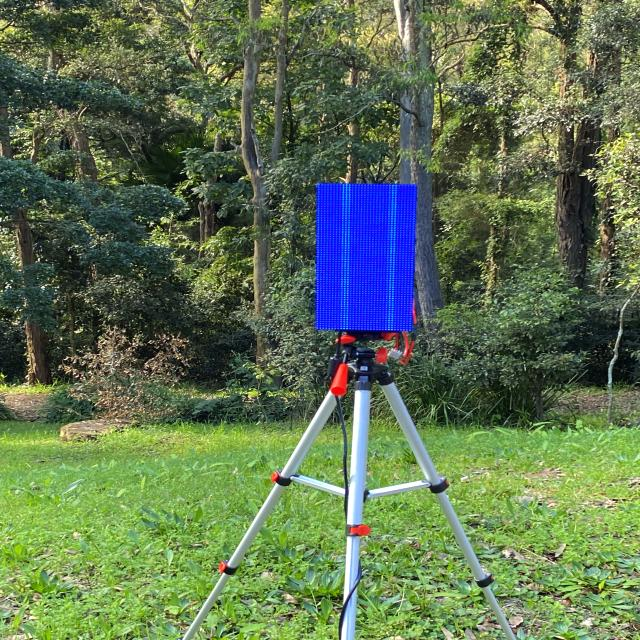matrix: (309, 179, 424, 341)
